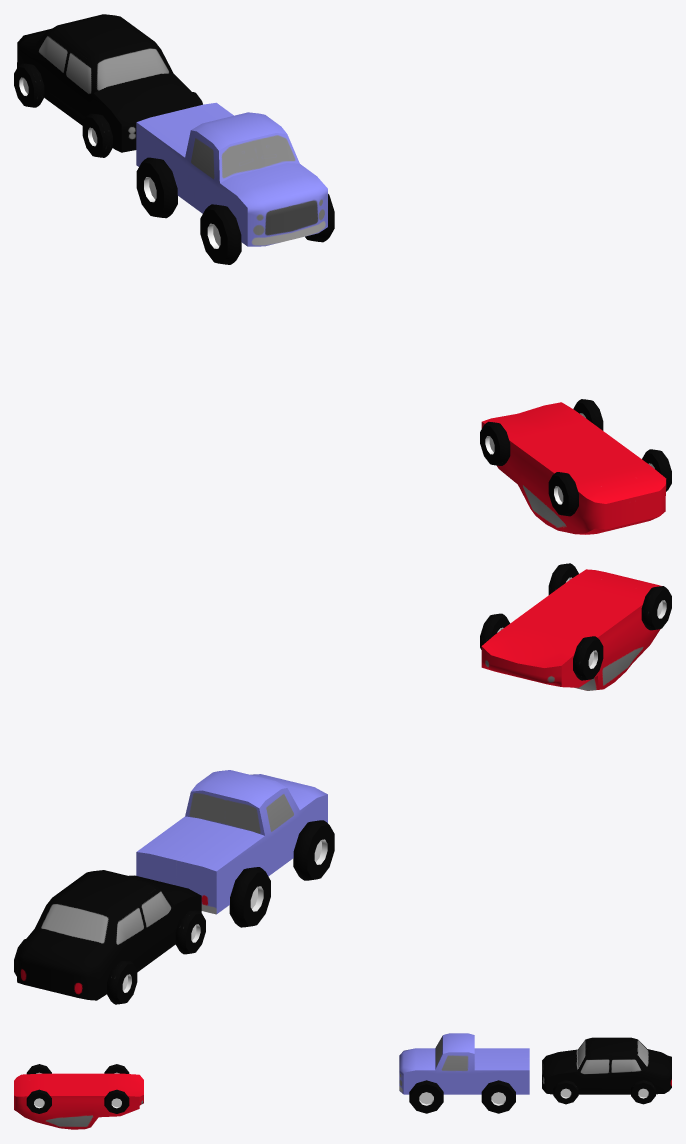
The model's file is cars.FBX.
The picture shows the model from 3 angles, top to bottom: view 1: azimuth 30°, elevation 25°; view 2: azimuth 150°, elevation 25°; view 3: azimuth 270°, elevation 25°; orthographic projection. The views are drawn at different scales.
Visible parts, largest first — view 1: truck, sport, sedan; view 2: truck, sedan, sport; view 3: truck, sedan, sport.
Part boxes in pixels (box(x1,y1,x2,y2)): truck: box(136, 102, 334, 264); sport: box(480, 399, 671, 534); sedan: box(14, 14, 202, 157); truck: box(136, 770, 334, 927); sedan: box(14, 870, 205, 1004); sport: box(480, 563, 671, 690); truck: box(399, 1033, 529, 1113); sedan: box(542, 1037, 671, 1104); sport: box(14, 1064, 143, 1129).
Bounding box in the file's own units: 120 × 156 × 1131.
Materials: 1 (1 with a texture image).
